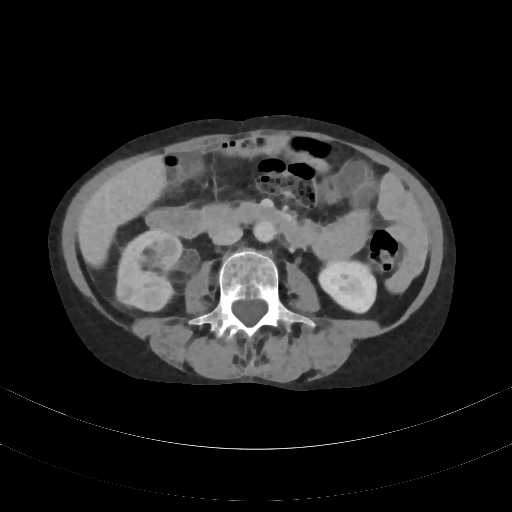Lesion: (114, 280, 135, 304)
